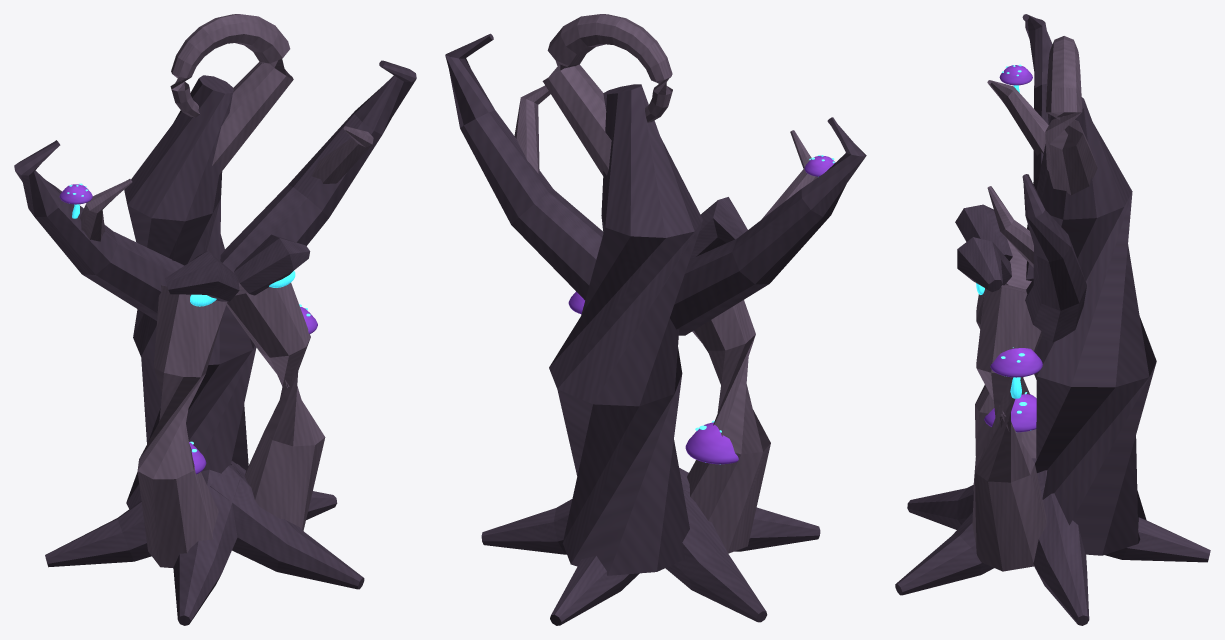
Rendered from forest_hollow_tree.glb.
3 renders of one model, left to right at view 1: azimuth 30°, elevation 25°; view 2: azimuth 150°, elevation 25°; view 3: azimuth 270°, elevation 25°, orthographic. The views are drawn at different scales.
Visible parts, largest first — view 1: Hollow watcher rear trunk, Hollow watcher cheek timber, Hollow watcher cheek timber.001, Crooked reaching bough, Crooked reaching bough.001, Watcher spiral crown, Splayed dreaming tree root.004, Splayed dreaming tree root.003, Splayed dreaming tree root.002, Raised wooden brow.001, Raised wooden brow, Forked reaching twig.001 (+2 smaller); view 2: Hollow watcher rear trunk, Crooked reaching bough.001, Crooked reaching bough, Hollow watcher cheek timber, Watcher spiral crown, Splayed dreaming tree root.002, Splayed dreaming tree root, Splayed dreaming tree root.001, Splayed dreaming tree root.003, Raised wooden brow, Forked reaching twig.001, Broad faceted mushroom cap (+1 smaller); view 3: Hollow watcher rear trunk, Hollow watcher cheek timber.001, Crooked reaching bough.001, Watcher spiral crown, Splayed dreaming tree root, Splayed dreaming tree root.004, Splayed dreaming tree root.001, Hollow watcher cheek timber, Raised wooden brow.001, Crooked reaching bough, Splayed dreaming tree root.003, Forked reaching twig (+5 smaller).
Part boxes in pixels (x1,y1,x2,y2): Hollow watcher rear trunk: (124,75,256,508); Hollow watcher cheek timber: (137,285,227,567); Hollow watcher cheek timber.001: (226,283,325,530); Crooked reaching bough: (14,140,184,320); Crooked reaching bough.001: (220,60,416,282); Watcher spiral crown: (170,14,293,174); Splayed dreaming tree root.004: (210,464,364,589); Splayed dreaming tree root.003: (173,469,239,625); Splayed dreaming tree root.002: (45,501,151,567); Raised wooden brow.001: (234,234,310,295); Raised wooden brow: (165,251,239,301); Forked reaching twig.001: (311,126,373,183); Hollow watcher rear trunk: (549,84,703,575); Crooked reaching bough.001: (445,33,603,300); Crooked reaching bough: (670,117,866,335); Hollow watcher cheek timber: (687,300,770,553); Watcher spiral crown: (542,14,672,175); Splayed dreaming tree root.002: (665,472,767,622); Splayed dreaming tree root: (481,499,572,554); Splayed dreaming tree root.001: (550,556,639,625); Splayed dreaming tree root.003: (679,467,820,551); Raised wooden brow: (690,197,747,259); Forked reaching twig.001: (514,85,550,173); Broad faceted mushroom cap: (685,422,738,464); Hollow watcher rear trunk: (1034,97,1156,555); Hollow watcher cheek timber.001: (972,284,1046,571); Crooked reaching bough.001: (1022,174,1086,342); Watcher spiral crown: (1045,36,1097,195); Splayed dreaming tree root: (1033,470,1089,625); Splayed dreaming tree root.004: (895,479,1044,595); Splayed dreaming tree root.001: (1105,517,1210,562); Hollow watcher cheek timber: (973,239,1036,490); Raised wooden brow.001: (957,237,1011,292); Crooked reaching bough: (1022,14,1052,280); Splayed dreaming tree root.003: (907,458,1036,529); Forked reaching twig: (987,80,1048,155).
Size of the model in its own units: 2.43 by 3.04 by 1.65.
6 materials, 5 textured.
